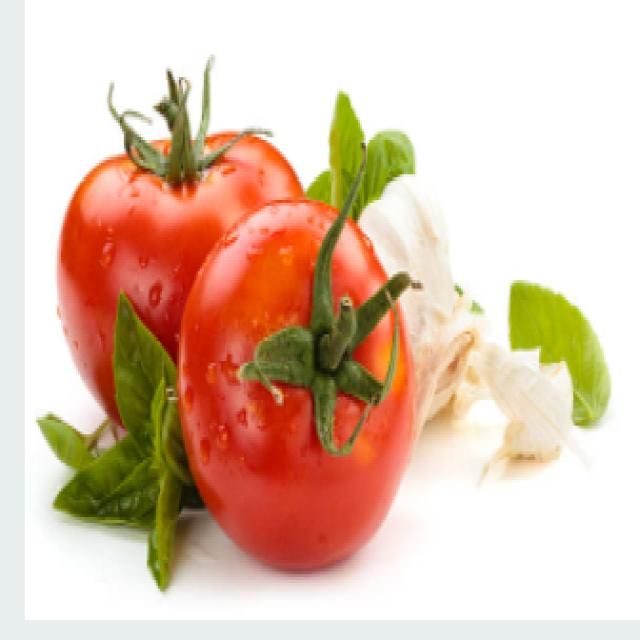Tomato: (57, 114, 325, 448), (175, 207, 415, 578)
